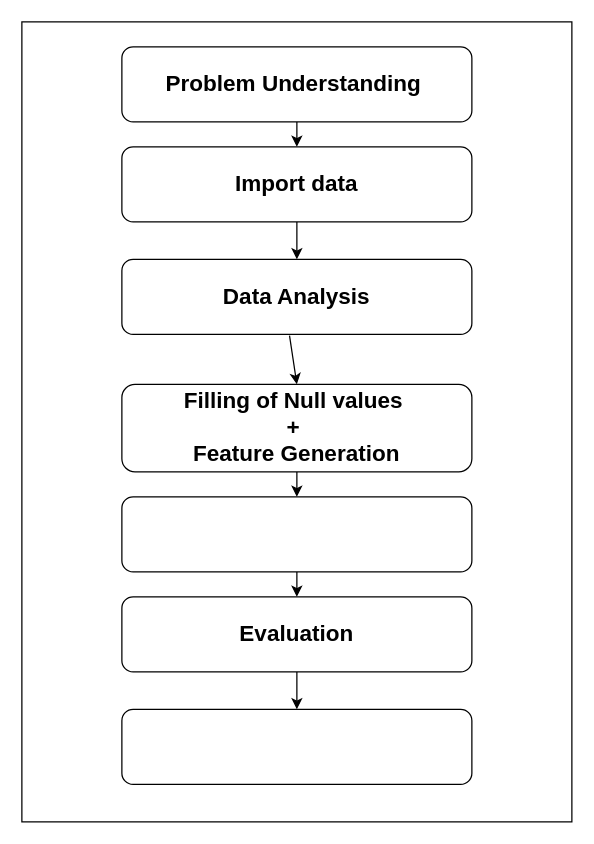
The diagram is 594 pixels wide and 844 high, and some of its shapes have lost their labels. Here are the shapes that lost their labels. From the top down, the centre of each, then its label:
pixel 296 534: Modelling
pixel 296 746: Prediction
